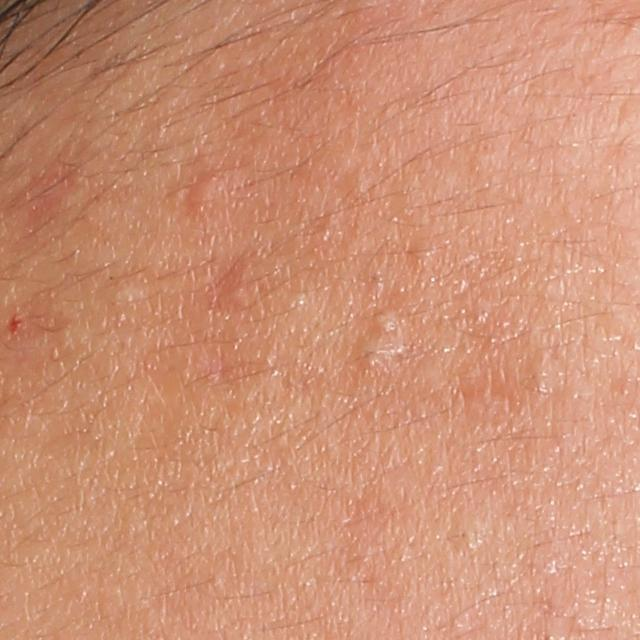comedo: (215, 262, 258, 310), (352, 330, 391, 371), (530, 348, 561, 397), (447, 519, 487, 553), (111, 281, 150, 306), (373, 304, 399, 335), (285, 284, 309, 314), (414, 243, 439, 264)
